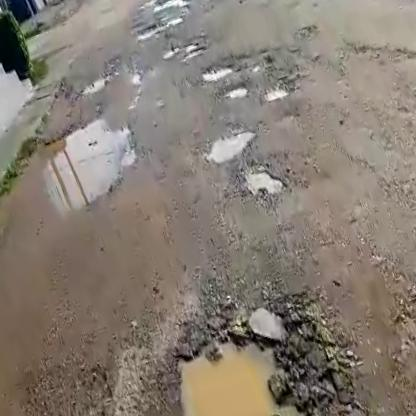pothole: (160, 294, 358, 416), (0, 114, 153, 236), (233, 148, 295, 208), (197, 119, 258, 167), (159, 35, 208, 69), (134, 12, 185, 42), (197, 54, 242, 83), (258, 79, 292, 106), (80, 73, 115, 96), (221, 79, 252, 102), (151, 0, 191, 15)
